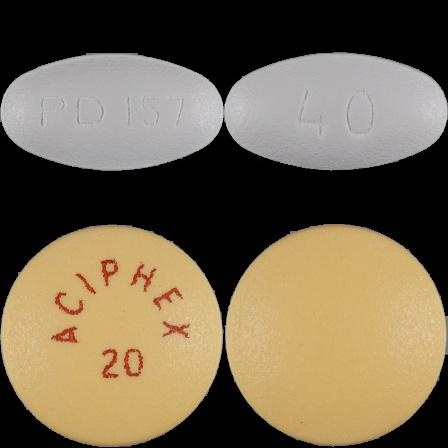63629-2724: (0, 0, 224, 224)
